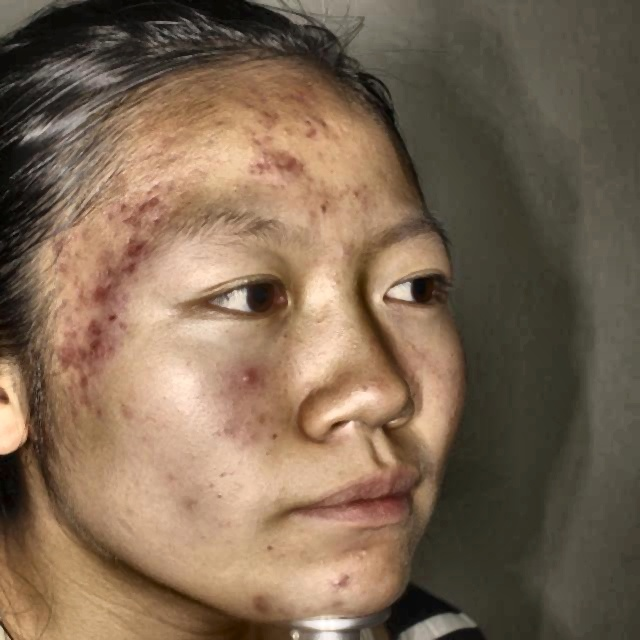papule: (325, 567, 361, 604), (249, 151, 281, 187), (82, 275, 119, 303), (76, 376, 109, 406), (120, 238, 160, 262), (245, 594, 278, 617), (279, 153, 306, 180), (257, 107, 283, 133), (303, 119, 331, 143), (82, 333, 114, 354), (224, 360, 253, 383), (128, 210, 160, 230), (71, 351, 103, 370), (282, 80, 310, 100), (78, 313, 112, 329), (132, 195, 164, 211), (48, 336, 71, 353), (56, 262, 74, 281), (111, 261, 142, 272), (114, 198, 134, 215), (63, 351, 76, 370)
